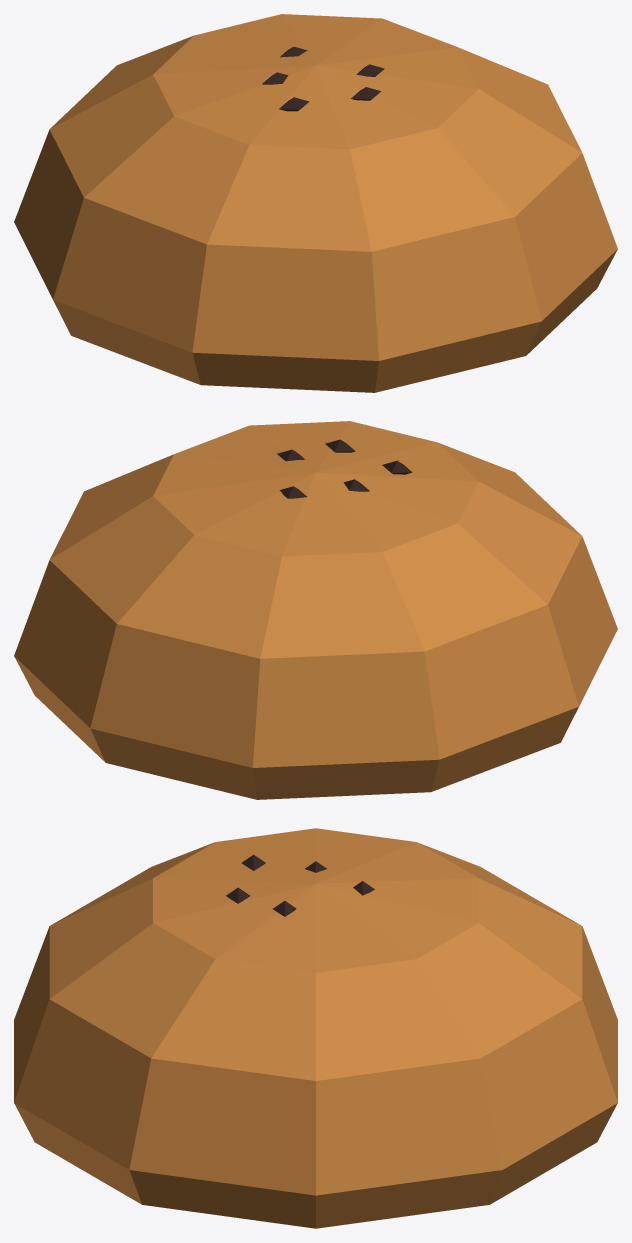
The model's file is Food_RedBeanBun.obj.
3 views of the same model, one above another, from view 1: azimuth 30°, elevation 25°; view 2: azimuth 150°, elevation 25°; view 3: azimuth 270°, elevation 25° (orthographic). The views are drawn at different scales.
Bounding box in the file's own units: 2.04 × 0.79 × 1.94.
